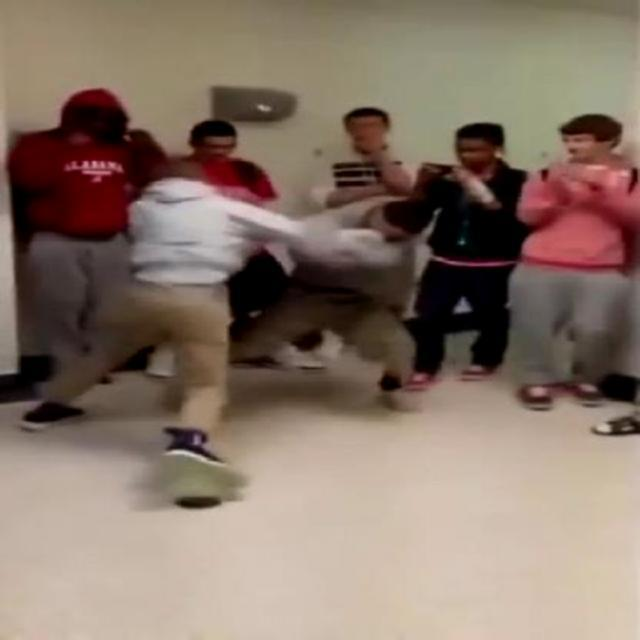fight: (20, 161, 442, 504)
